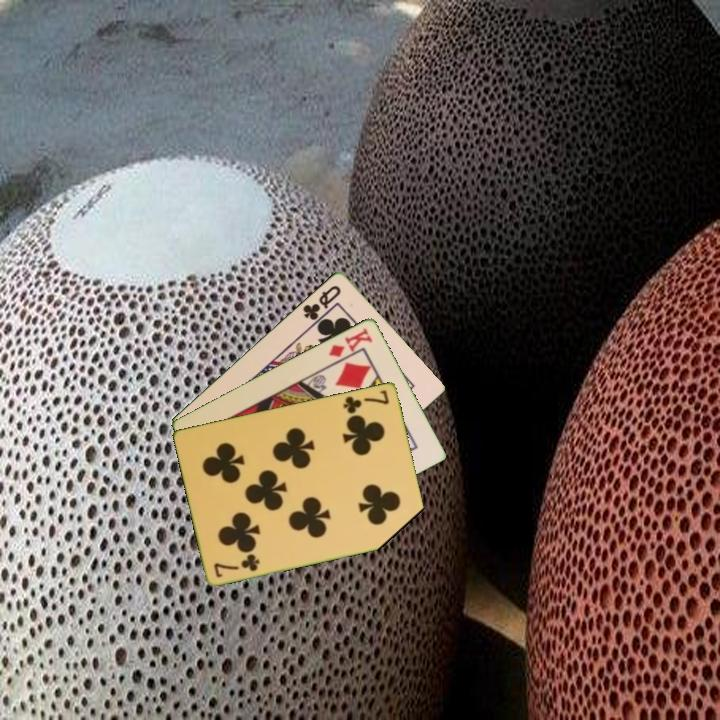7c: (210, 550, 263, 580), (340, 386, 392, 416)
Kd: (325, 324, 375, 360)
Qc: (299, 281, 344, 323)
